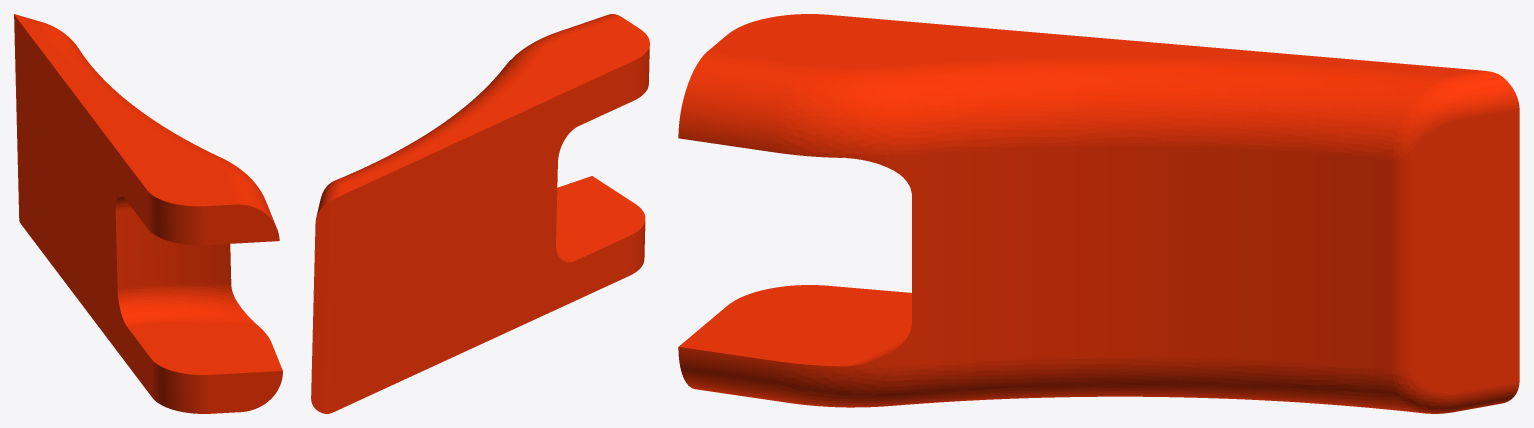
The model's file is L_Hand_Index_Proximal_visuals_ALLEX_Hand_Proximal_Pad.obj.
3 views of the same model, side by side, from view 1: azimuth 30°, elevation 25°; view 2: azimuth 150°, elevation 25°; view 3: azimuth 270°, elevation 25° (orthographic). The views are drawn at different scales.
Size of the model in its own units: 0.00969 by 0.0162 by 0.037.
